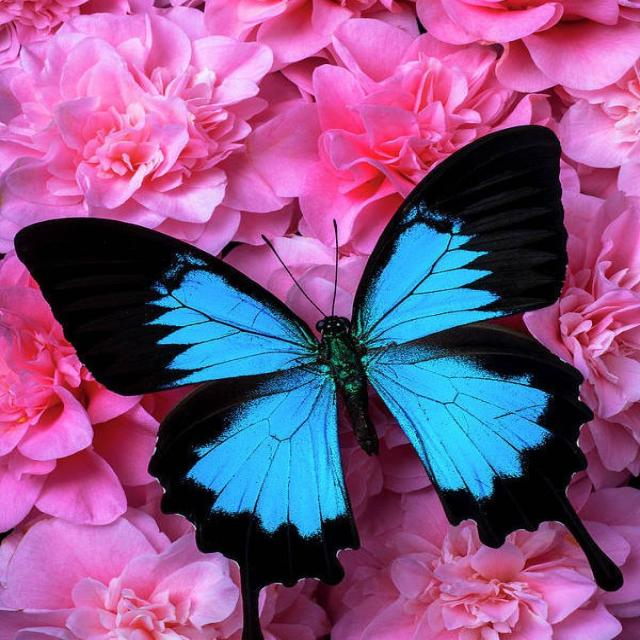butterfly: (47, 223, 588, 515)
